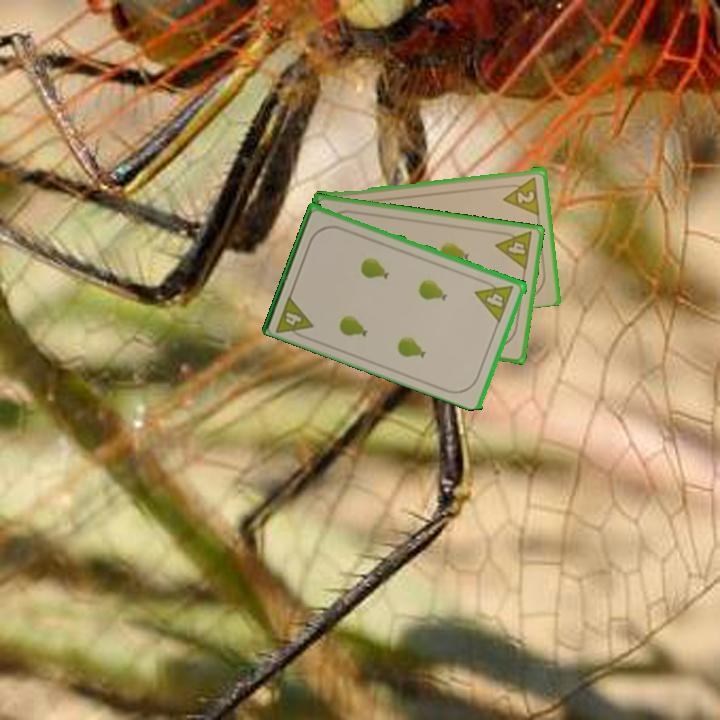2p: (499, 173, 542, 216)
4p: (272, 290, 317, 343), (472, 275, 517, 324), (492, 227, 536, 273)
